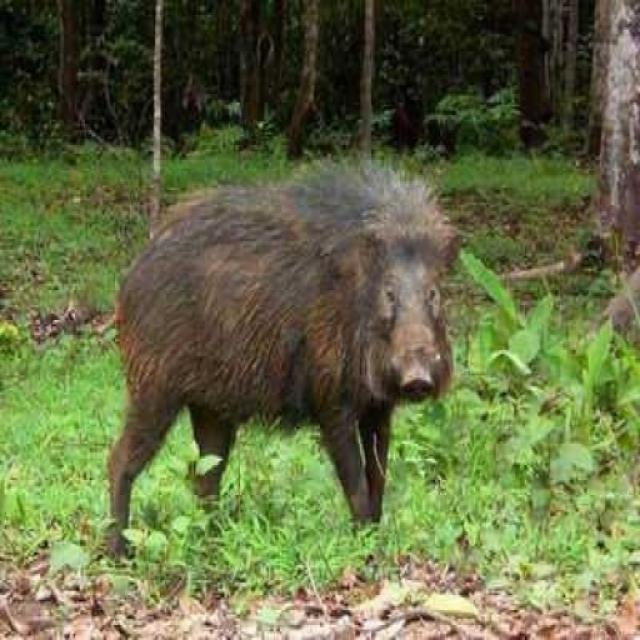pig: (82, 132, 468, 550)
